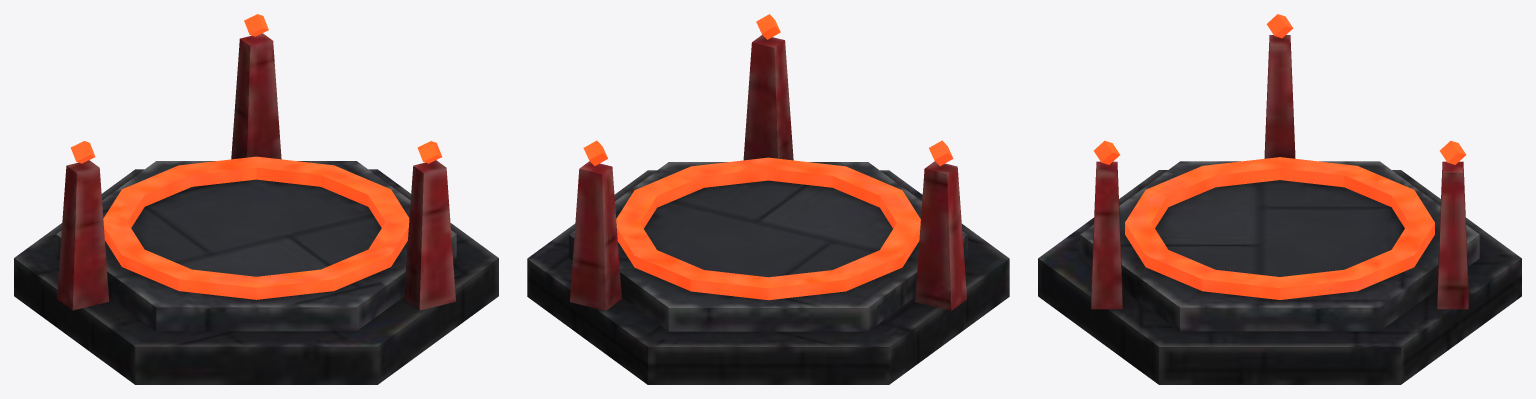
Rendered from u_arcbase2_e.glb.
3 renders of one model, left to right at view 1: azimuth 30°, elevation 25°; view 2: azimuth 150°, elevation 25°; view 3: azimuth 270°, elevation 25°, orthographic.
Parts seen in each view (by area): view 1: u_arcbase2_e; view 2: u_arcbase2_e; view 3: u_arcbase2_e.
Boxes of the visible parts, left/top/right/bottom form: u_arcbase2_e: left=14, top=14, right=498, bottom=384; u_arcbase2_e: left=527, top=14, right=1009, bottom=384; u_arcbase2_e: left=1038, top=14, right=1521, bottom=384.
Bounding box in the file's own units: 0.9002 × 0.4572 × 1.01.
1 material, 1 textured.
